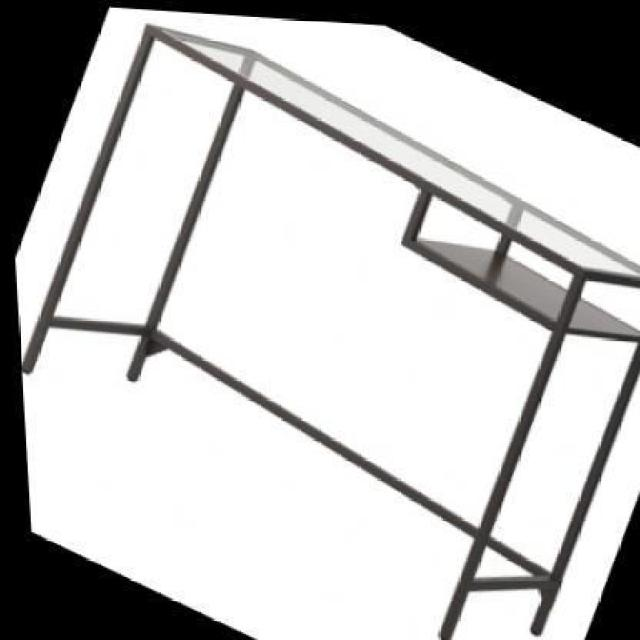tables: (7, 3, 638, 639)
